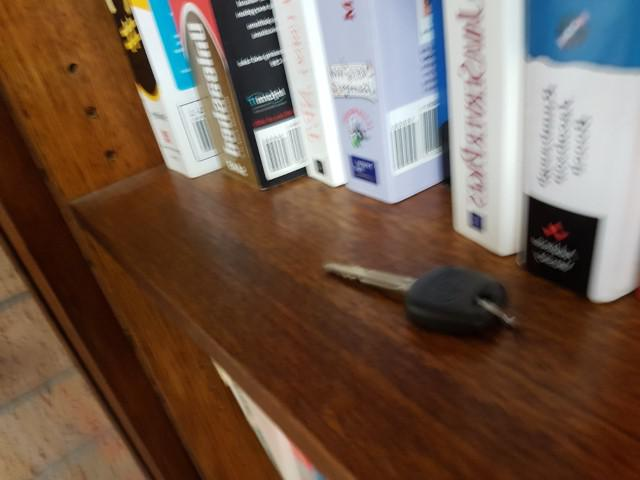key: (324, 260, 506, 333)
